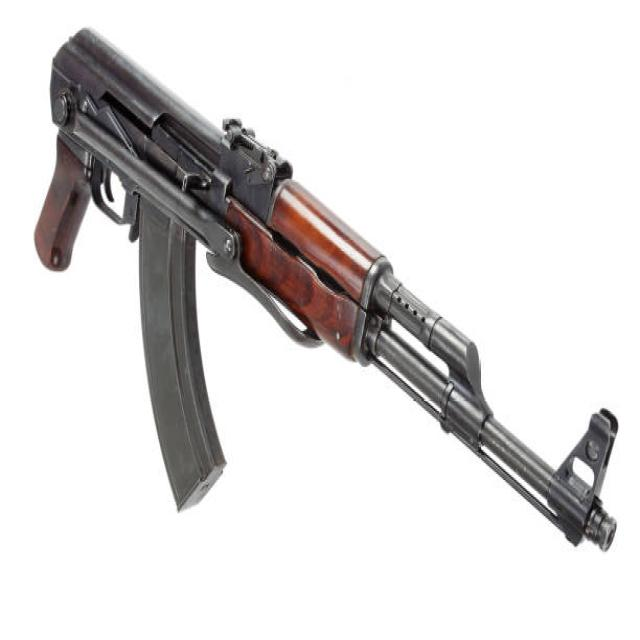rifle: (27, 21, 629, 582)
